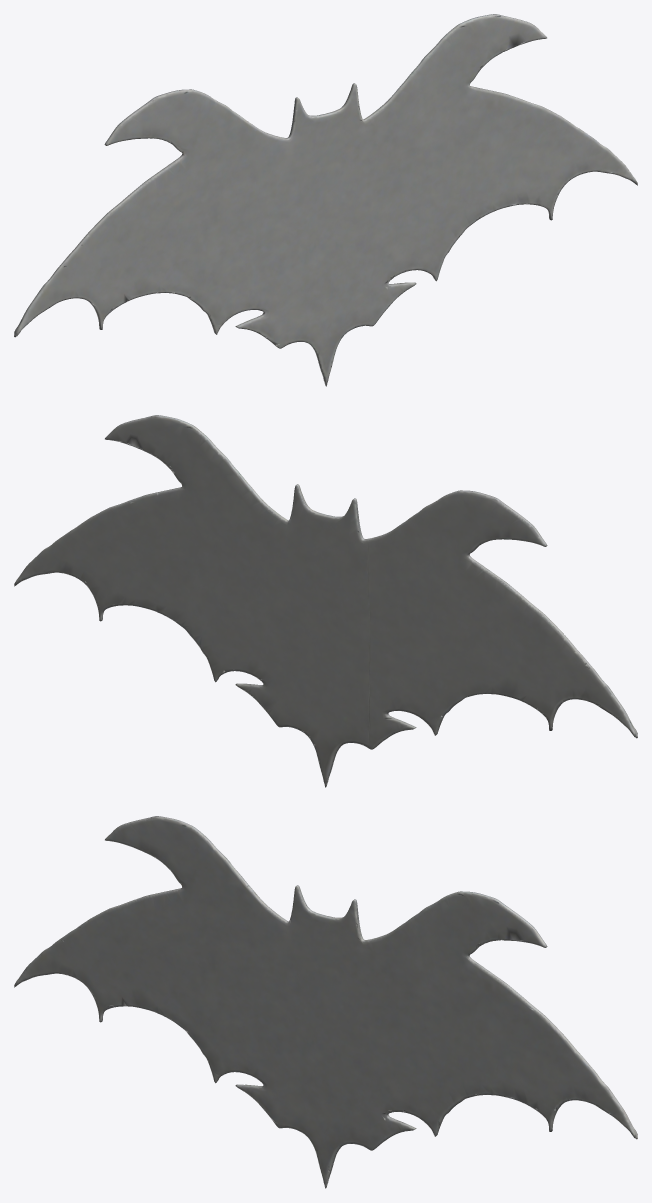
The picture shows the model from 3 angles, top to bottom: view 1: azimuth 30°, elevation 25°; view 2: azimuth 150°, elevation 25°; view 3: azimuth 330°, elevation 25°; orthographic projection.
Bounding box in the file's own units: 2 × 1.02 × 0.0176.
1 material, 1 textured.
